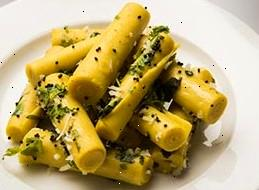khandvi: (13, 7, 228, 185)
